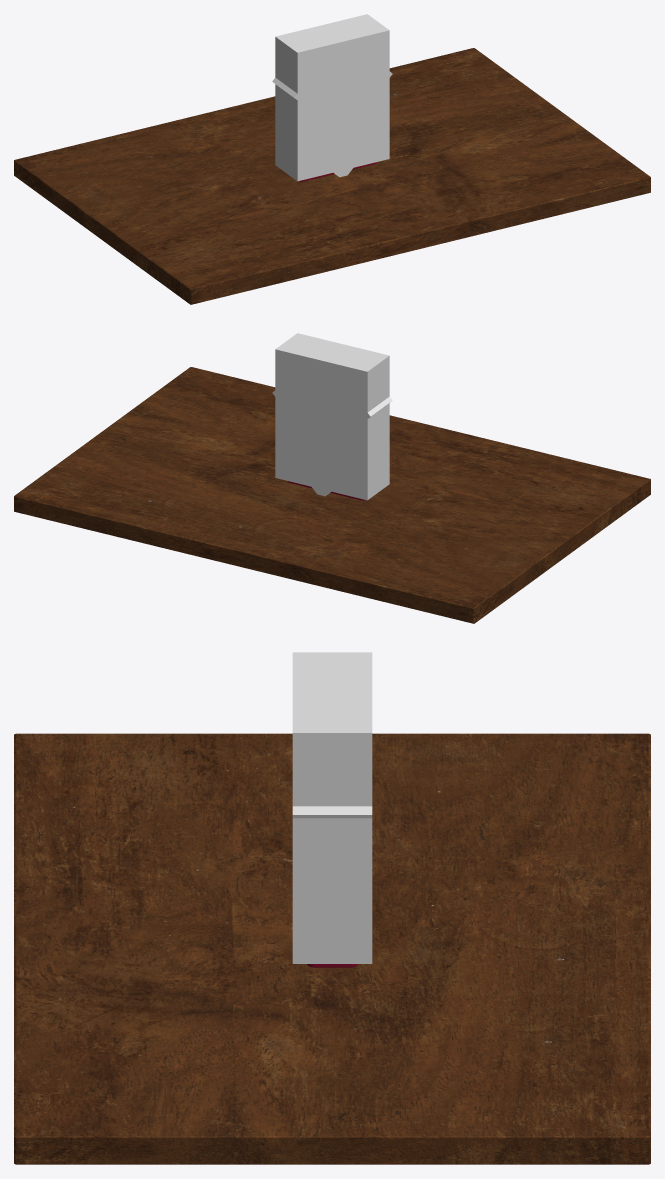
The model's file is tank.glb.
3 views of the same model, one above another, from view 1: azimuth 30°, elevation 25°; view 2: azimuth 150°, elevation 25°; view 3: azimuth 270°, elevation 25° (orthographic). The views are drawn at different scales.
Visible parts, largest first — view 1: Table, Cube.002, Cube.005, Cube.004; view 2: Table, Cube.001, Cube.004, Cube.005, Cube.003, Cube.002, Cube.009; view 3: Table, Cube.003, Cube.005, Cube.001, Cube.002, Cube.007, Cube.006.
Boxes of the visible parts, x1,y1,x2,y2 form: Table: (14, 48, 650, 304); Cube.002: (293, 27, 389, 180); Cube.005: (275, 14, 384, 60); Cube.004: (275, 36, 304, 172); Table: (14, 367, 650, 623); Cube.001: (275, 351, 371, 499); Cube.004: (359, 355, 389, 500); Cube.005: (275, 333, 386, 378); Cube.003: (275, 333, 304, 479); Cube.002: (300, 334, 389, 484); Cube.009: (304, 467, 338, 496); Table: (14, 733, 650, 1164); Cube.003: (292, 726, 372, 963); Cube.005: (293, 652, 372, 747); Cube.001: (356, 652, 372, 963); Cube.002: (292, 652, 308, 963); Cube.007: (292, 806, 372, 818); Cube.006: (295, 949, 372, 963).
Size of the model in its own units: 120 by 37.55 by 80.
Materials: 5 (1 with a texture image).
